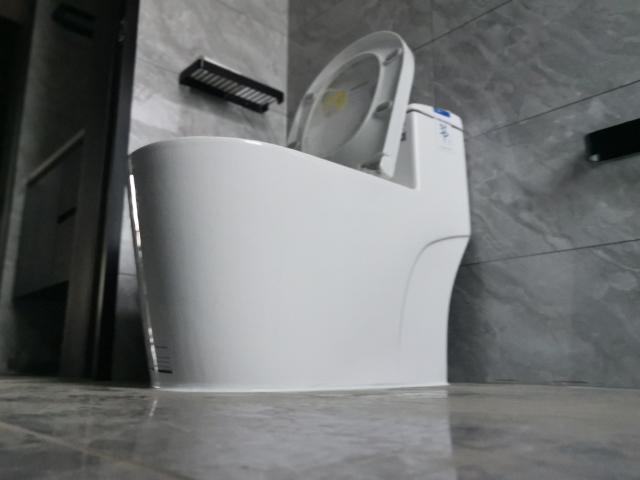closestool: (124, 29, 475, 395)
